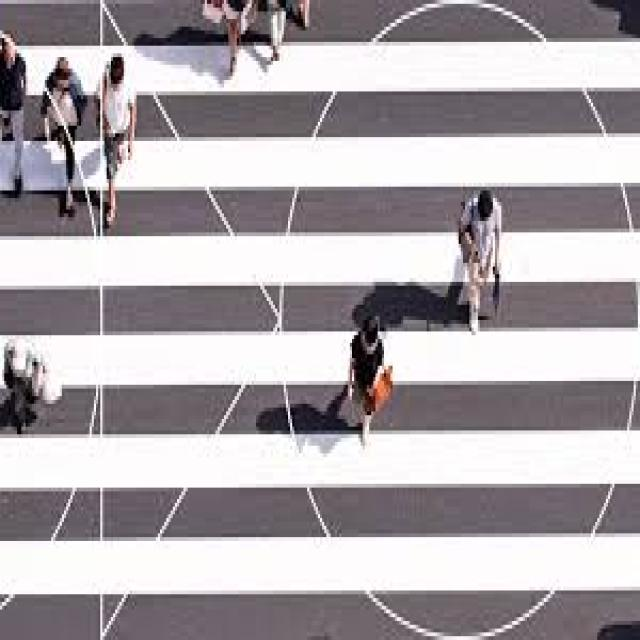Pedestrians: (339, 308, 399, 449), (96, 54, 143, 228), (38, 57, 88, 210), (456, 183, 504, 339), (2, 335, 60, 427), (2, 31, 28, 198)
